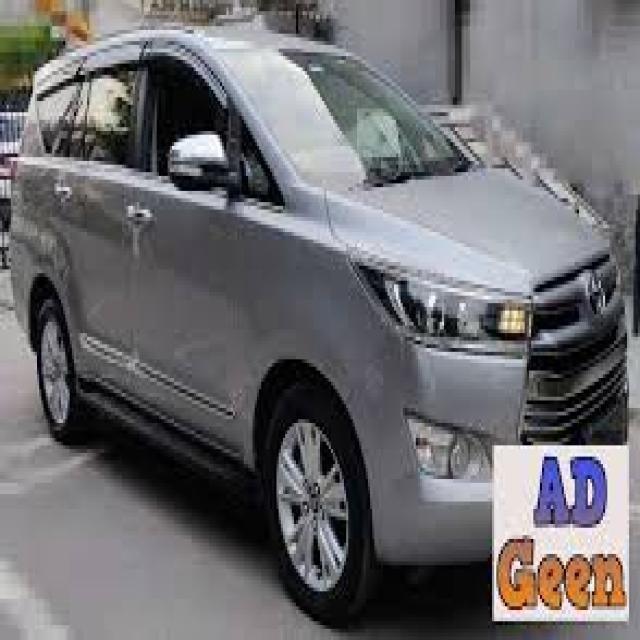light_vehicle: (12, 25, 629, 626)
